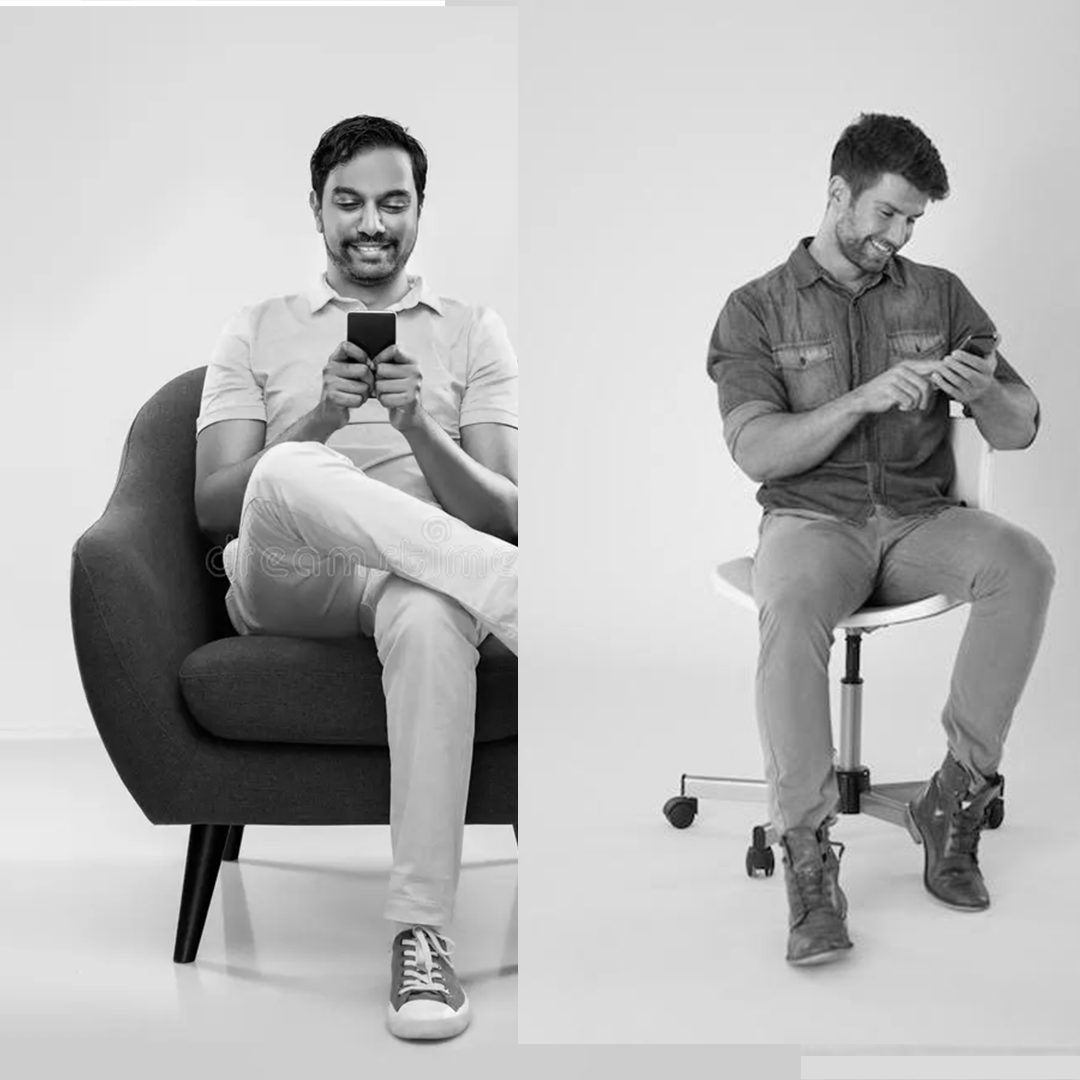distracted: (262, 93, 488, 581), (762, 64, 1000, 492)
